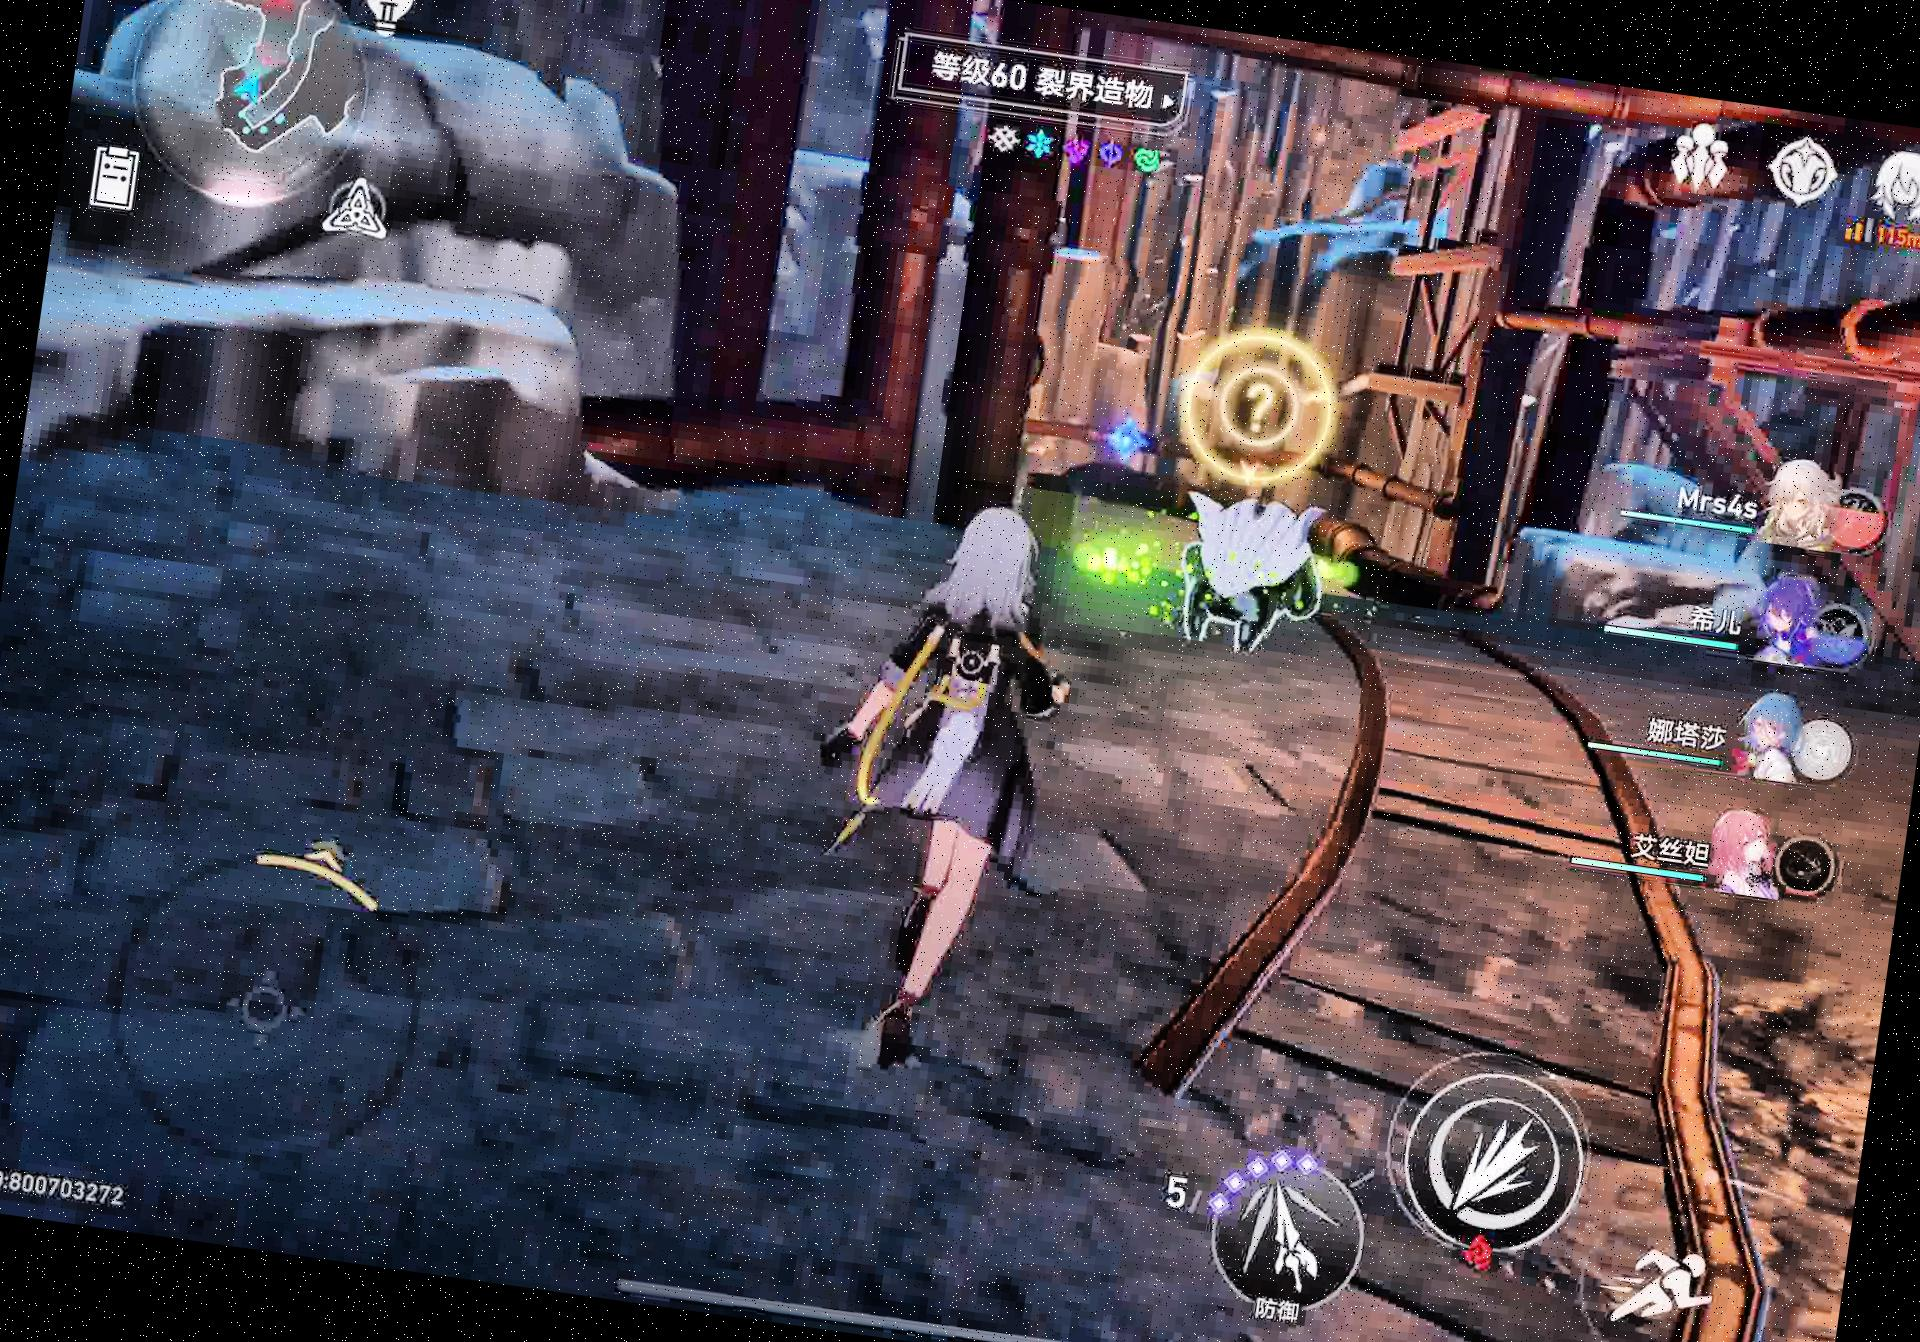Box: (1015, 454, 1078, 557)
Enemy: (1169, 489, 1339, 664)
EventDoor: (1102, 414, 1156, 471)
Self: (797, 492, 1102, 1087)
